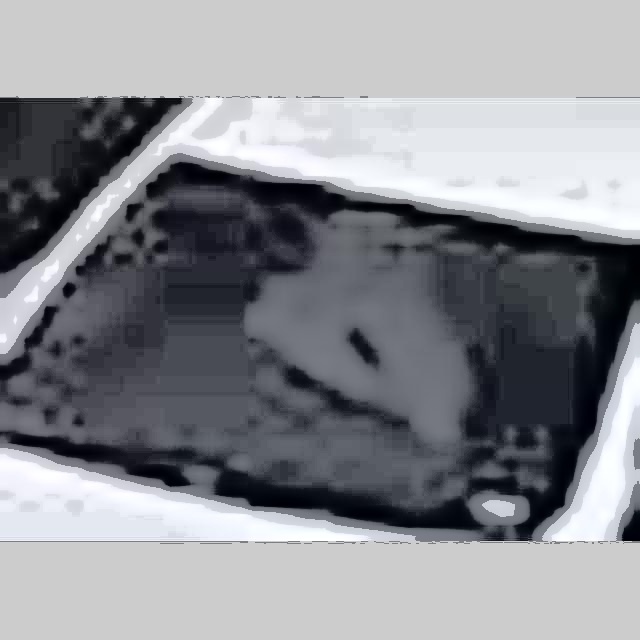pakai: (227, 222, 454, 428)
